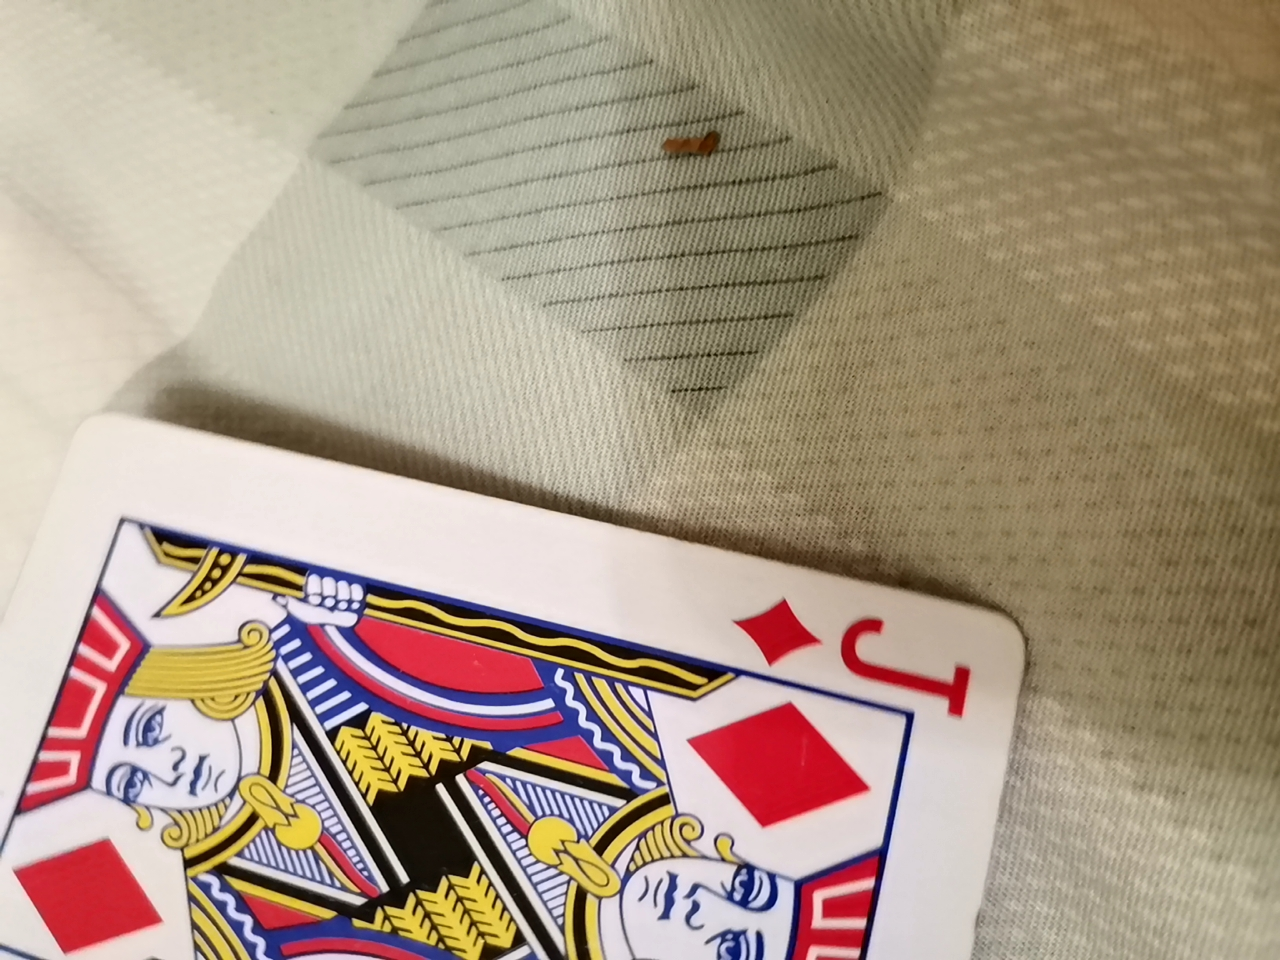fk j: (0, 395, 1046, 958)
